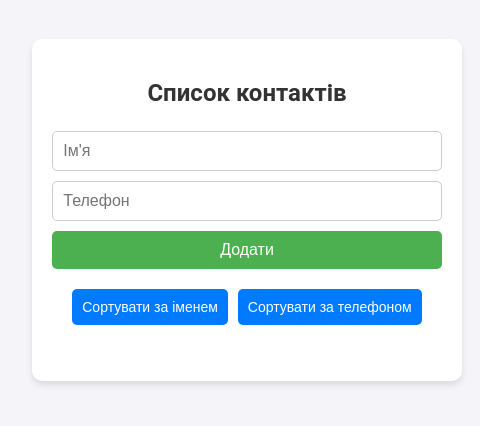
Test: ContactsFields Component › should edit an existing contact
The image size is (480, 426).
Type "Alice" into the field with placeholder "Ім" at (247, 151), box [52,131,442,171]
Type "987654321" into the field with placeholder "Телефон" at (247, 201), box [52,181,442,221]
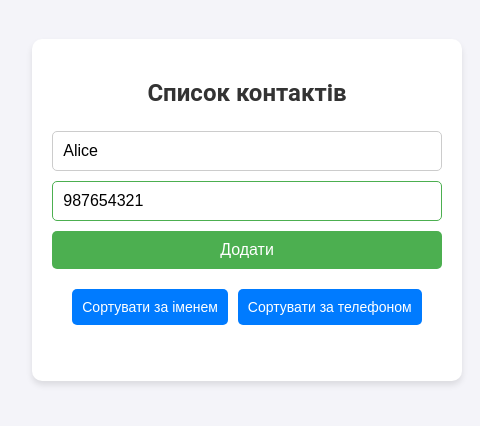
Click the button "Додати" at (247, 250), box [52,231,442,269]
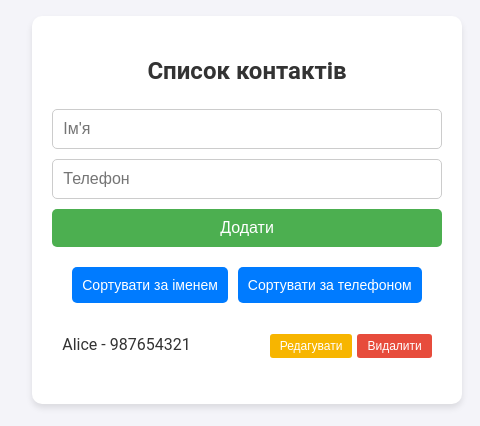
Click the button "Редагувати" at (312, 346), box [270,334,353,358]
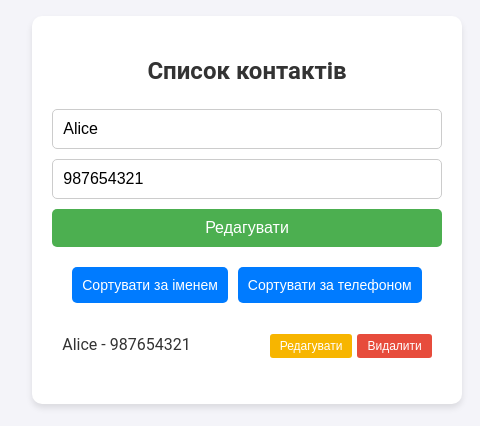
Replace the text in the 1st field with placeholder "Ім" with "Alice Updated" at (247, 129), box [52,109,442,149]
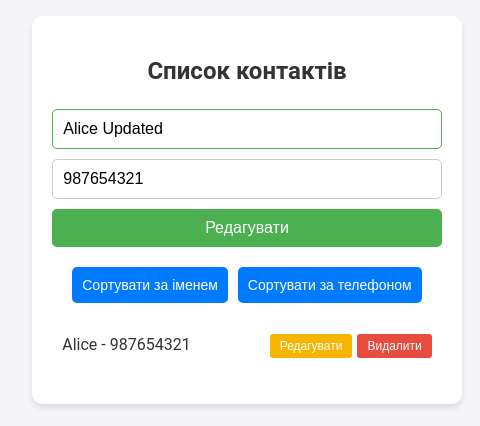
Replace the text in the 2nd field with placeholder "Телефон" with "111111111" at (247, 179), box [52,159,442,199]
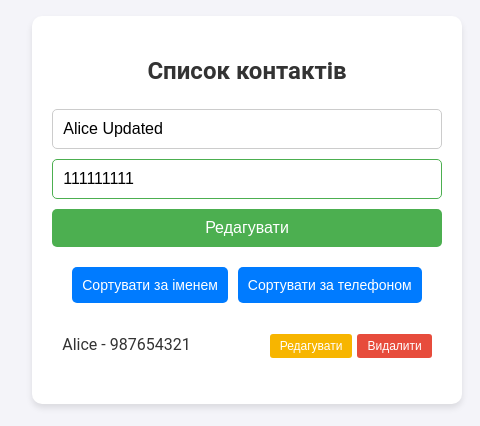
Click the 1st button "Редагувати" at (247, 228), box [52,209,442,247]
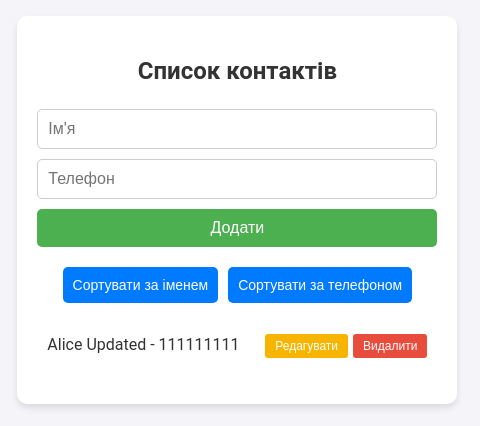
Now the text with class "contacts-list" reads "Alice Updated - 111111111", box [47,333,239,357]
